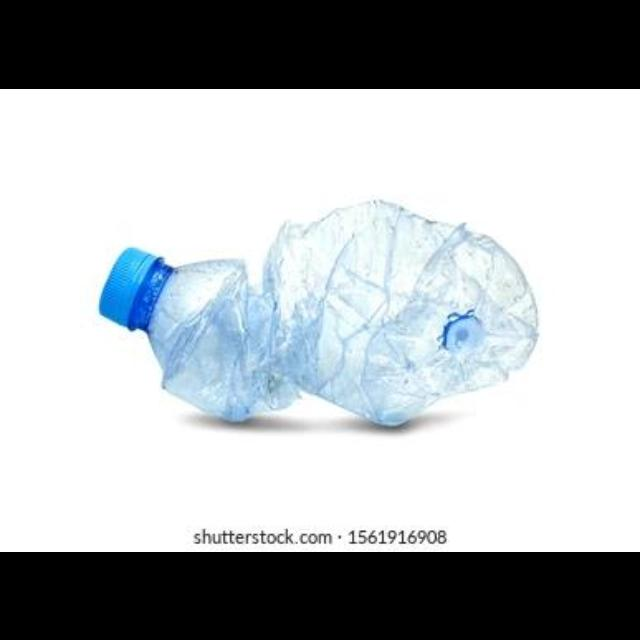garrafa plástica: (146, 196, 540, 428)
tampa plástica: (98, 245, 166, 331)
